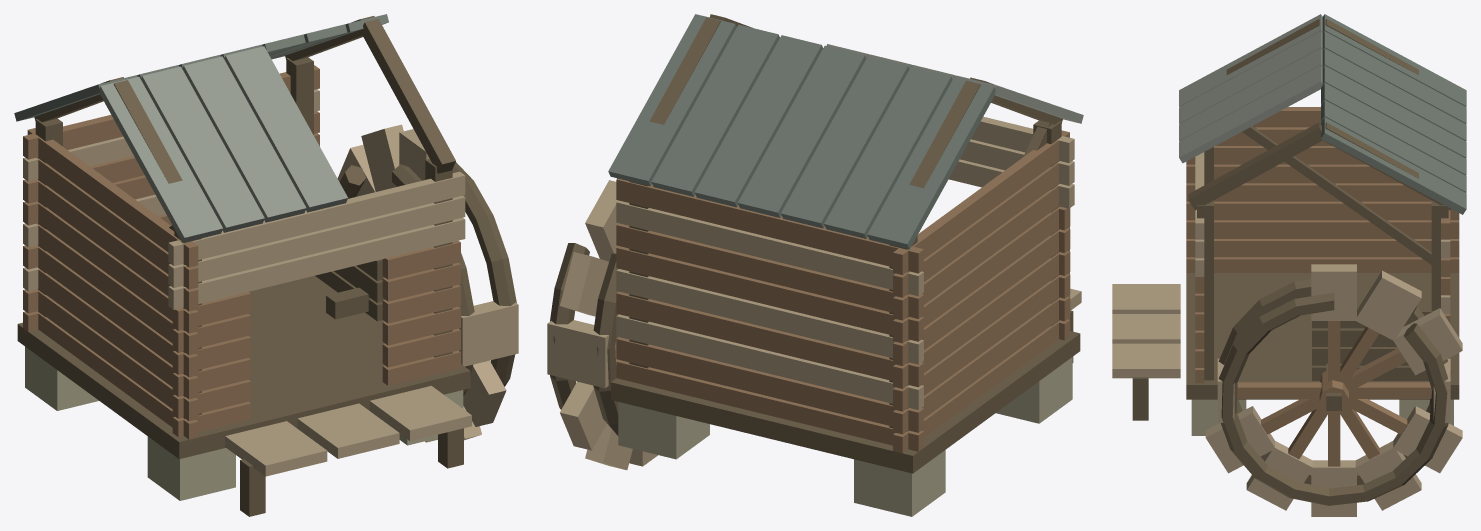
The model's file is qc_watermill_ruin.obj.
The picture shows the model from 3 angles, left to right: view 1: azimuth 30°, elevation 25°; view 2: azimuth 150°, elevation 25°; view 3: azimuth 270°, elevation 25°; orthographic projection. The views are drawn at different scales.
Visible parts, largest first — view 1: qc_watermill_ruin; view 2: qc_watermill_ruin; view 3: qc_watermill_ruin.
Boxes of the visible parts, x1,y1,x2,y2 form: qc_watermill_ruin: [14, 14, 518, 516]; qc_watermill_ruin: [547, 14, 1083, 516]; qc_watermill_ruin: [1112, 14, 1466, 516].
Size of the model in its own units: 3.1 by 3.53 by 3.11.
